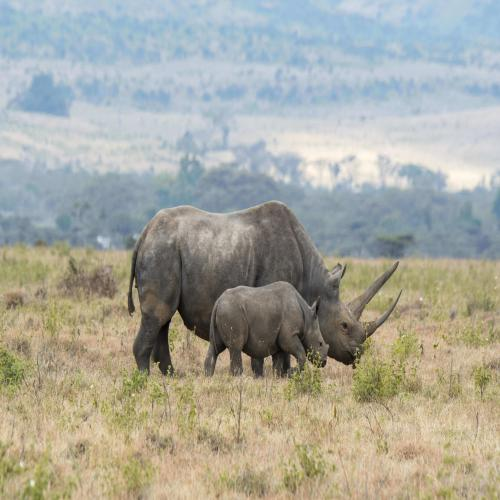rhino-endangered: (132, 207, 402, 370), (210, 287, 328, 376)
